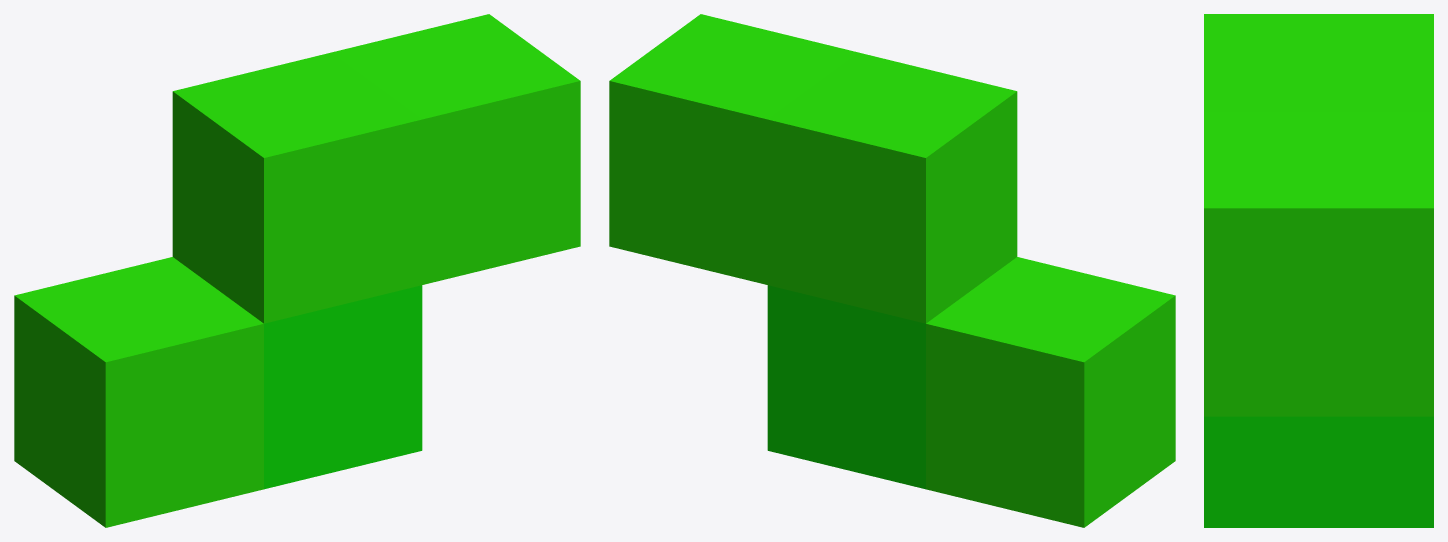
The model's file is SpieceGreen.gltf.
The picture shows the model from 3 angles, left to right: view 1: azimuth 30°, elevation 25°; view 2: azimuth 150°, elevation 25°; view 3: azimuth 270°, elevation 25°; orthographic projection. The views are drawn at different scales.
Visible parts, largest first — view 1: Spiece; view 2: Spiece; view 3: Spiece.
Part boxes in pixels (box(x1,y1,x2,y2)): Spiece: box(14, 14, 580, 527); Spiece: box(609, 14, 1175, 527); Spiece: box(1204, 14, 1433, 527).
Size of the model in its own units: 6 by 4 by 2.
